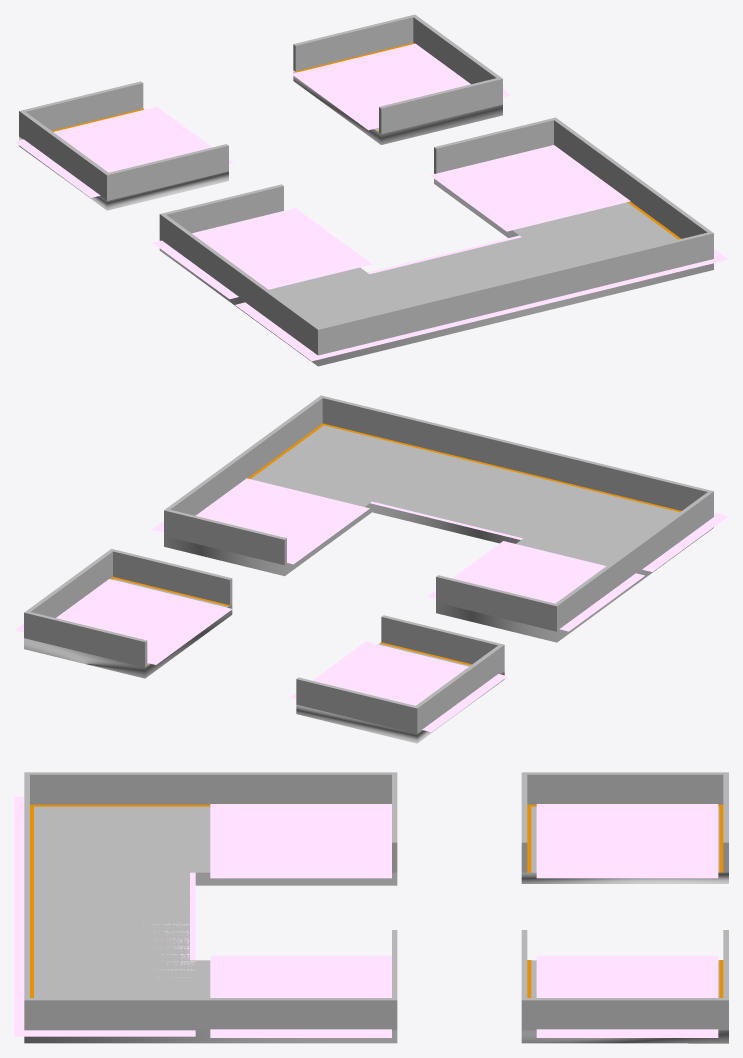
The model's file is Duel_Stage 44.fbx.
3 renders of one model, top to bottom at view 1: azimuth 30°, elevation 25°; view 2: azimuth 150°, elevation 25°; view 3: azimuth 270°, elevation 25°, orthographic. The views are drawn at different scales.
Parts seen in each view (by area): view 1: DB_Platform_Cube_Floor.001, DB_Platform_Cube_Floor, Plane.011, Plane.010, Plane.014, Plane.013, Plane.012, DB_Platform_Cube_Floor.002; view 2: DB_Platform_Cube_Floor.001, DB_Platform_Cube_Floor, Plane.014, Plane.011, Plane.013, Plane.010, DB_Platform_Cube_Floor.002, Plane.012; view 3: DB_Platform_Cube_Floor.001, DB_Platform_Cube_Floor, Plane.013, Plane.010, Plane.014, Plane.011, Plane.012, DB_Platform_Cube_Floor.002.
Boxes of the visible parts, x1,y1,x2,y2 form: DB_Platform_Cube_Floor.001: [19, 14, 713, 355]; DB_Platform_Cube_Floor: [19, 70, 713, 366]; Plane.011: [430, 145, 630, 231]; Plane.010: [153, 208, 372, 299]; Plane.014: [292, 43, 511, 130]; Plane.013: [14, 106, 233, 197]; Plane.012: [235, 235, 728, 361]; DB_Platform_Cube_Floor.002: [52, 42, 680, 239]; DB_Platform_Cube_Floor.001: [24, 395, 713, 733]; DB_Platform_Cube_Floor: [24, 425, 713, 743]; Plane.014: [14, 579, 232, 664]; Plane.011: [152, 478, 369, 564]; Plane.013: [289, 641, 507, 732]; Plane.010: [427, 541, 644, 631]; DB_Platform_Cube_Floor.002: [110, 423, 681, 665]; Plane.012: [370, 501, 728, 571]; DB_Platform_Cube_Floor.001: [24, 772, 728, 1030]; DB_Platform_Cube_Floor: [24, 806, 728, 1043]; Plane.013: [536, 804, 718, 878]; Plane.010: [210, 804, 391, 878]; Plane.014: [536, 955, 718, 1037]; Plane.011: [210, 955, 391, 1037]; Plane.012: [14, 796, 195, 1036]; DB_Platform_Cube_Floor.002: [30, 804, 723, 997].
Bounding box in the file's own units: 4150 × 346 × 5175.
